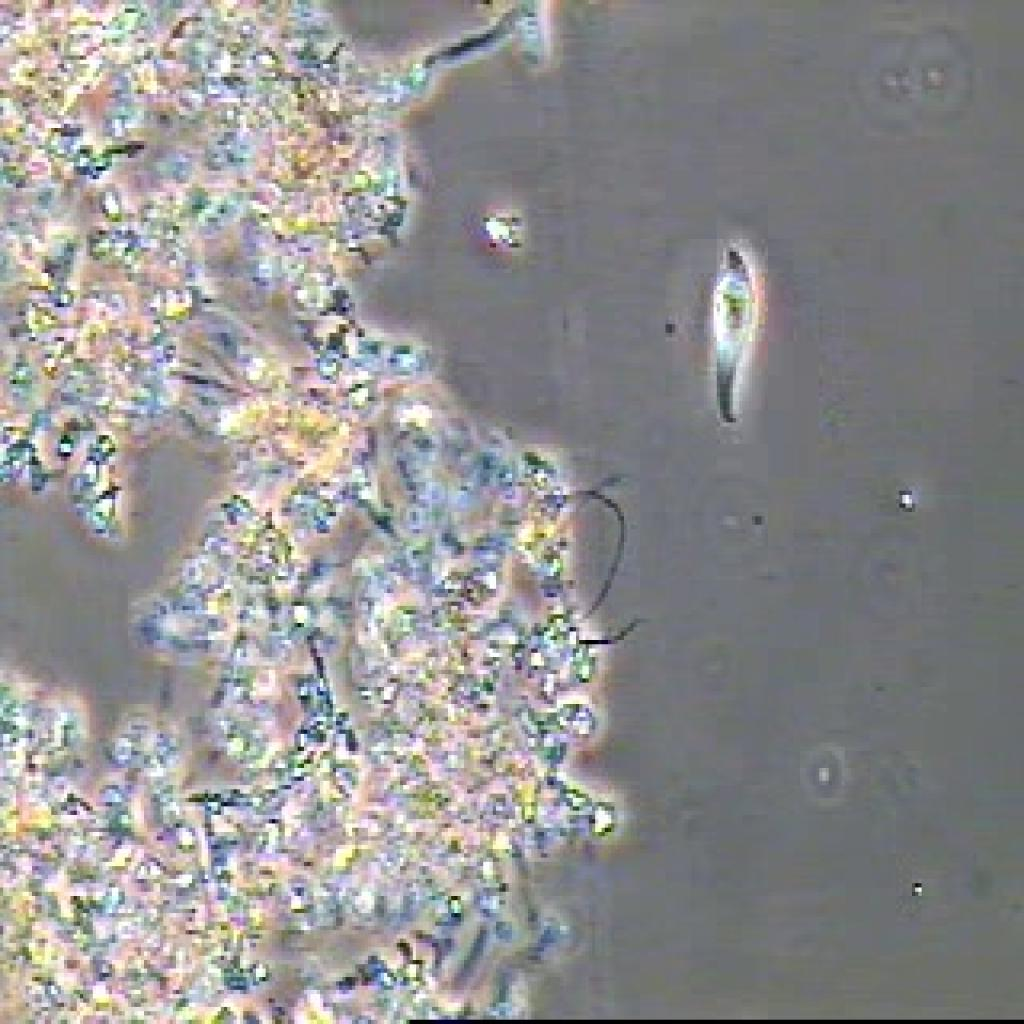Pristina: (706, 228, 766, 450)
